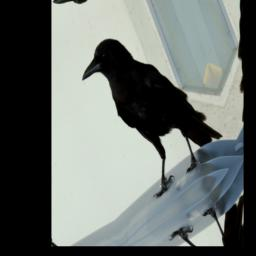Crow: (74, 0, 227, 220)
